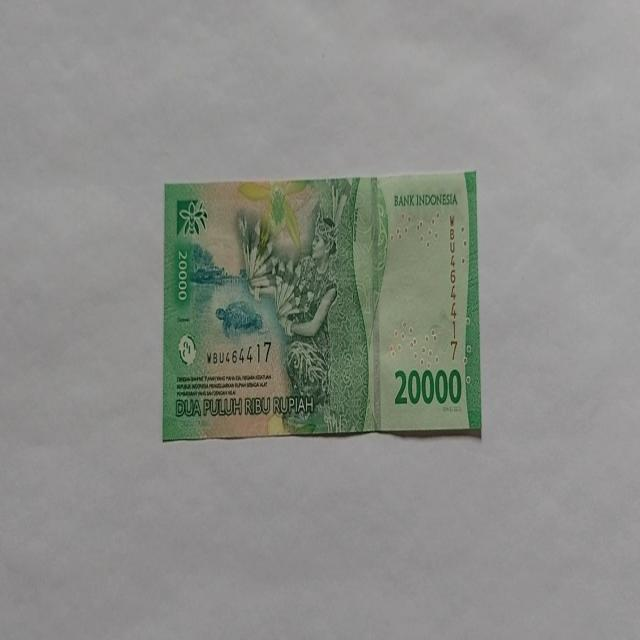dua puluh ribu rupiah: (162, 170, 482, 442)
